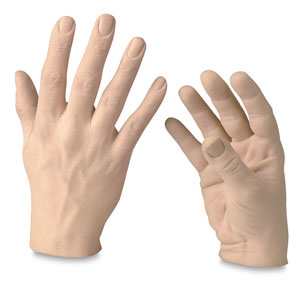finger: (64, 3, 117, 139), (94, 18, 148, 132), (115, 68, 167, 168), (228, 70, 283, 141), (198, 69, 252, 141), (36, 12, 69, 111), (177, 81, 223, 141), (163, 114, 202, 178)
